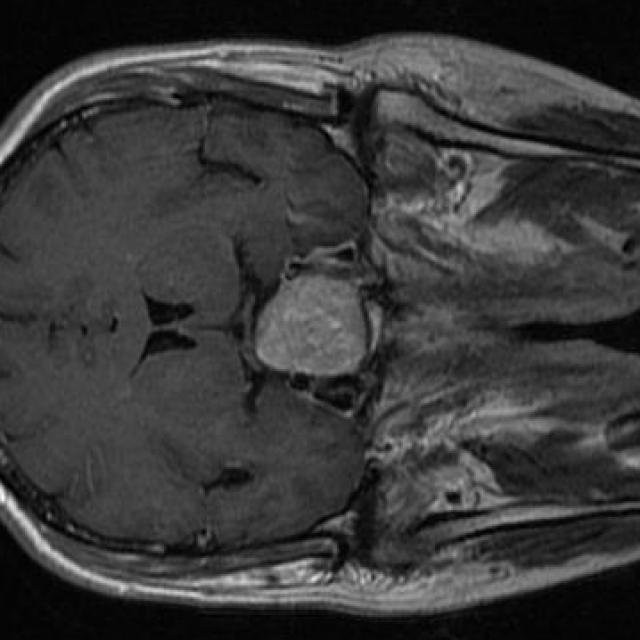pituitary: (257, 276, 365, 376)
